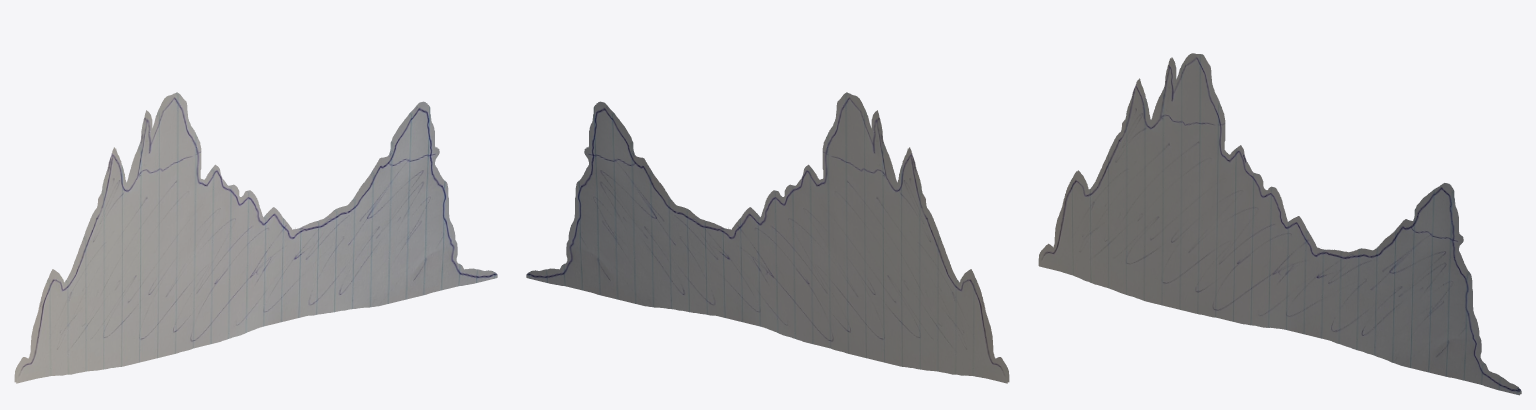
File: BEFG.fbx
3 views of the same model, side by side, from view 1: azimuth 30°, elevation 25°; view 2: azimuth 150°, elevation 25°; view 3: azimuth 330°, elevation 25° (orthographic).
Parts seen in each view (by area): view 1: Plane; view 2: Plane; view 3: Plane.
Part boxes in pixels (left/top/right/bottom): Plane: left=14, top=92, right=497, bottom=383; Plane: left=526, top=92, right=1009, bottom=383; Plane: left=1038, top=53, right=1521, bottom=395.
Bounding box in the file's own units: 1244 × 649 × 6.84.
Materials: 1 (1 with a texture image).
